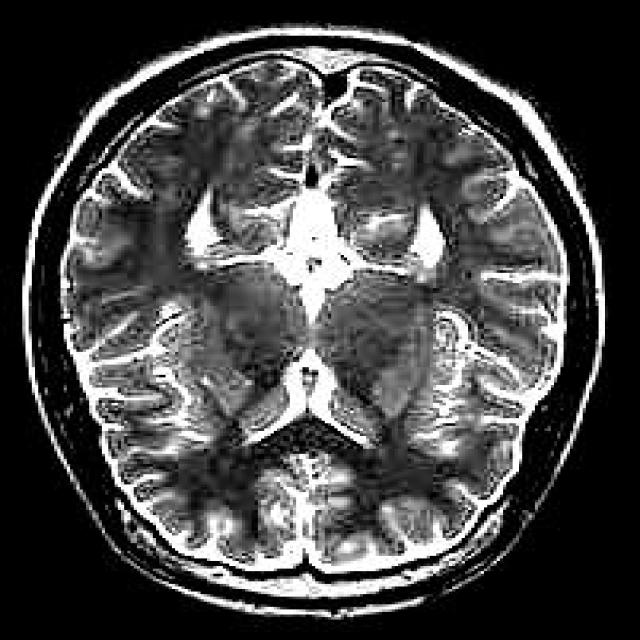no-tumor: (165, 144, 490, 490)
